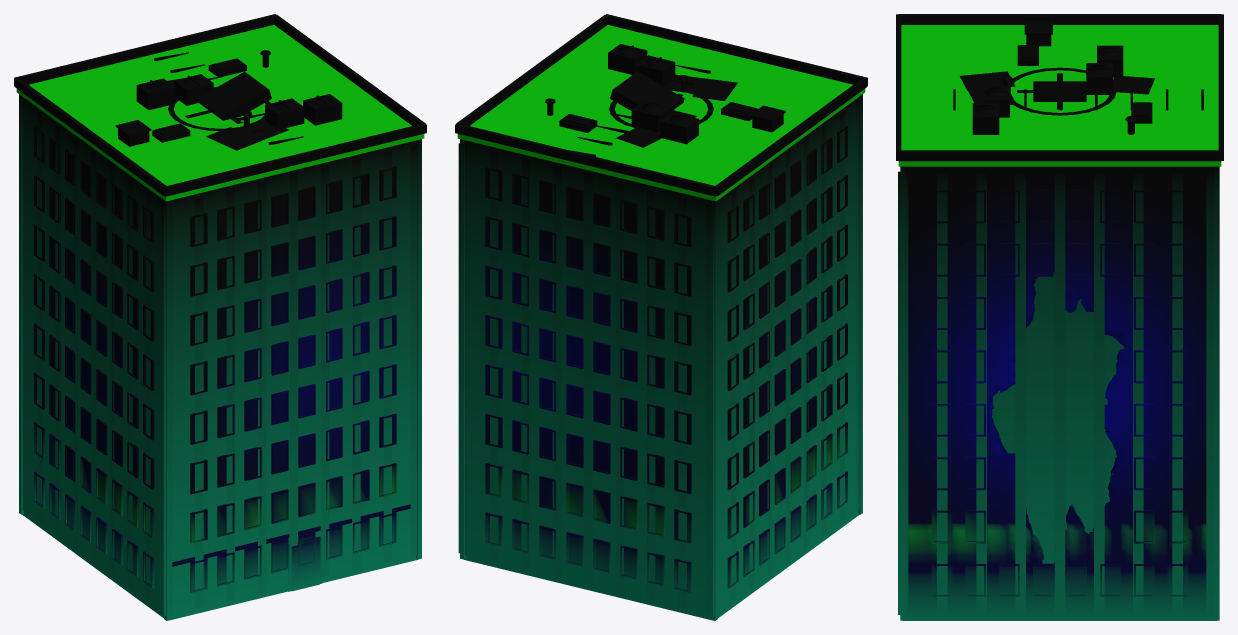
File: city8storyb_damaged.glb
The picture shows the model from 3 angles, left to right: view 1: azimuth 30°, elevation 25°; view 2: azimuth 150°, elevation 25°; view 3: azimuth 270°, elevation 25°; orthographic projection. The views are drawn at different scales.
Parts seen in each view (by area): view 1: lod0; view 2: lod0; view 3: lod0.
Boxes of the visible parts, x1,y1,x2,y2 form: lod0: [14, 14, 426, 620]; lod0: [455, 14, 867, 620]; lod0: [896, 14, 1223, 620].
Size of what is drawn, in the model's own units: 18.5 by 30.15 by 18.5.
